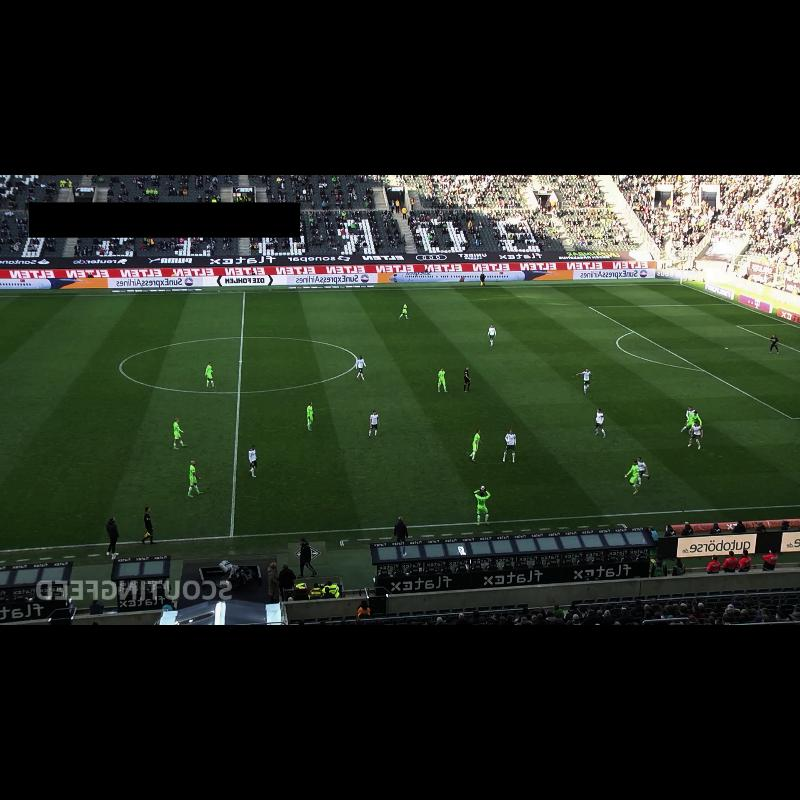cross_recipient_zone: (590, 303, 800, 419)
crossing_player_zone: (657, 418, 800, 507), (479, 284, 732, 308)
pitch: (0, 284, 800, 551)
